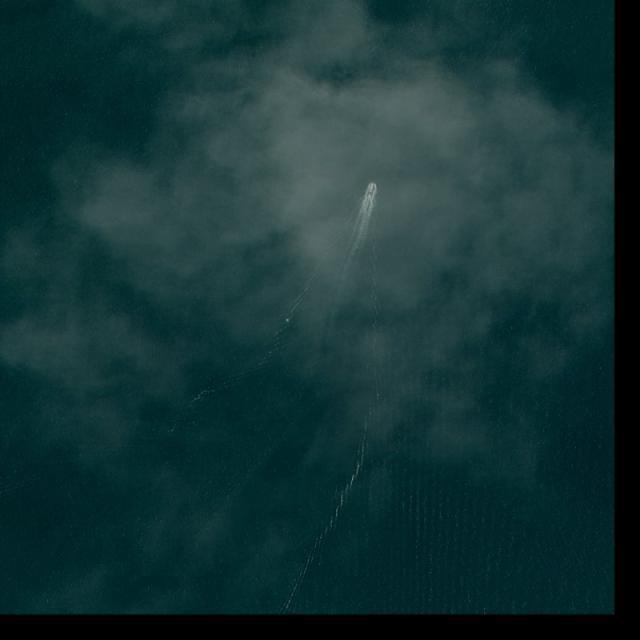ship: (369, 182, 376, 195)
